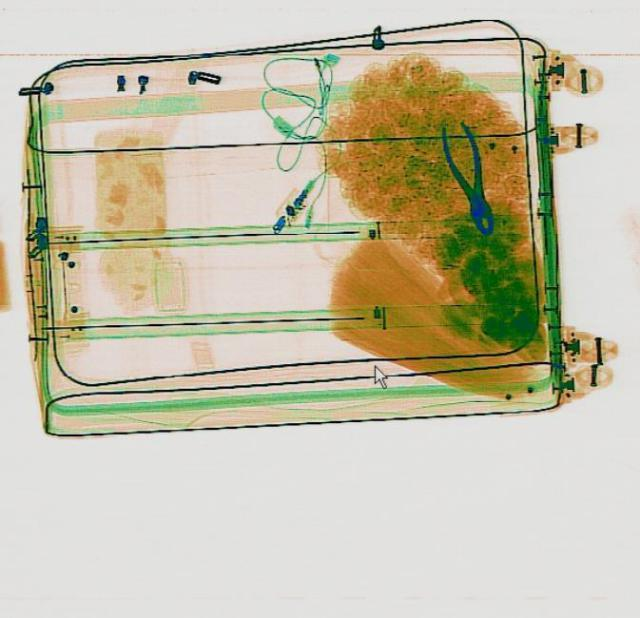Pliers: (433, 117, 507, 236)
